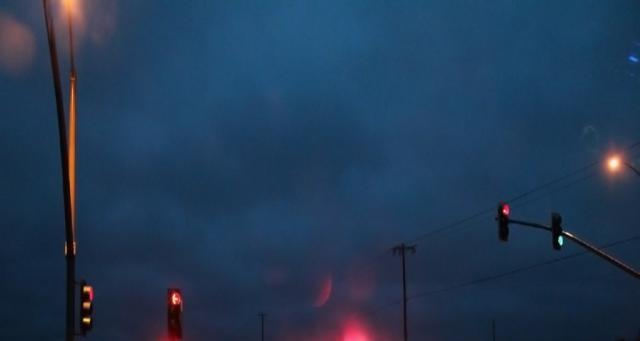green_light: (551, 213, 563, 250)
red_light: (167, 288, 181, 333), (498, 202, 513, 241)
